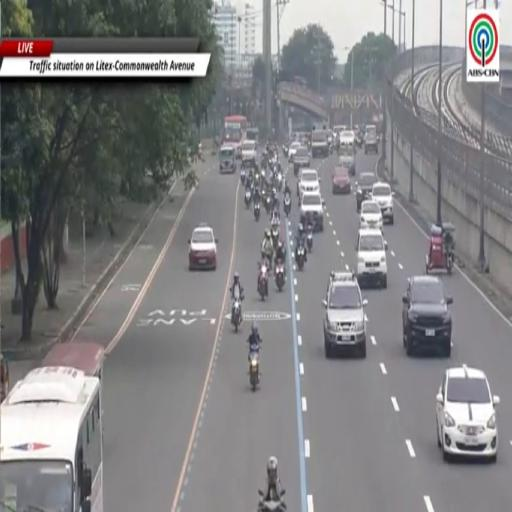bus: (0, 366, 103, 511), (41, 341, 105, 403), (223, 116, 247, 158)
car: (436, 364, 500, 462), (403, 276, 452, 357), (323, 272, 367, 358), (356, 229, 387, 289), (189, 223, 217, 269), (371, 182, 394, 225), (300, 191, 324, 232), (355, 172, 378, 213), (360, 200, 383, 230), (338, 137, 356, 175), (297, 169, 320, 197), (219, 144, 236, 173), (333, 167, 351, 194), (312, 130, 329, 157), (293, 148, 310, 172), (364, 125, 378, 154), (242, 140, 257, 166), (288, 141, 300, 162)
motorcycle: (258, 490, 286, 511), (249, 346, 261, 392), (258, 264, 268, 300), (274, 260, 285, 291), (231, 299, 241, 332), (295, 244, 306, 270), (446, 246, 454, 276), (283, 194, 291, 218), (271, 226, 279, 248), (306, 226, 312, 252), (265, 196, 272, 214), (245, 189, 251, 209), (254, 202, 260, 221), (276, 172, 282, 191), (240, 170, 245, 185)
tricycle: (426, 222, 454, 275)
